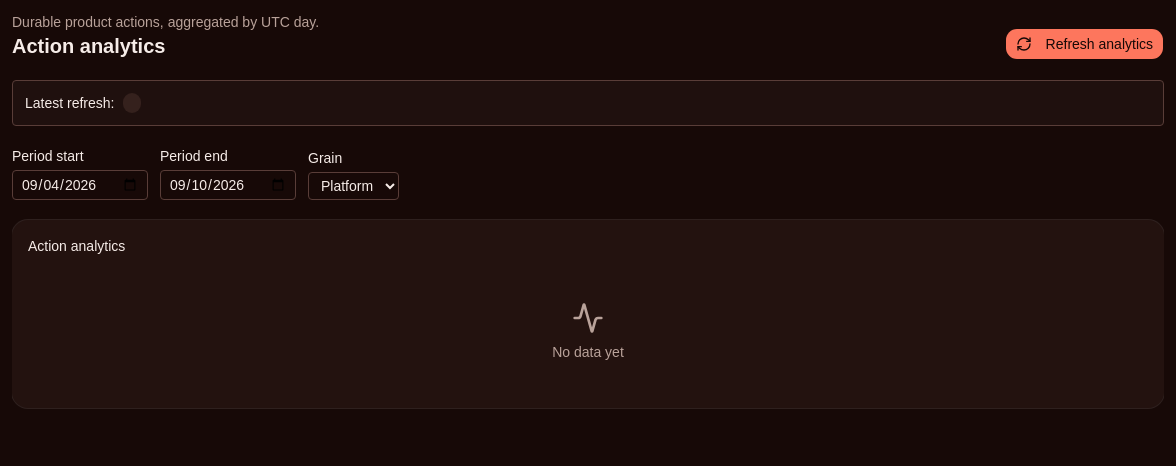
it: AnalyticsSection › shows a warning when refresh skips dates before retained events
The image size is (1176, 466).
Click the button "Refresh analytics" at (1084, 44), box [1005,28,1164,60]
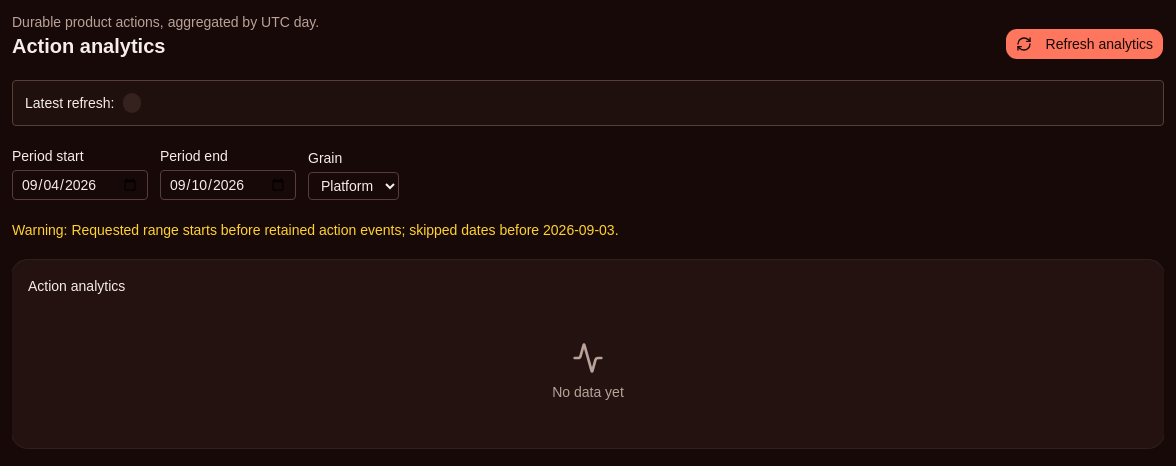
Result: the text "Warning: Requested range starts before retained action events; skipped dates before 2026-09-03." is shown at [12,222,618,238]
